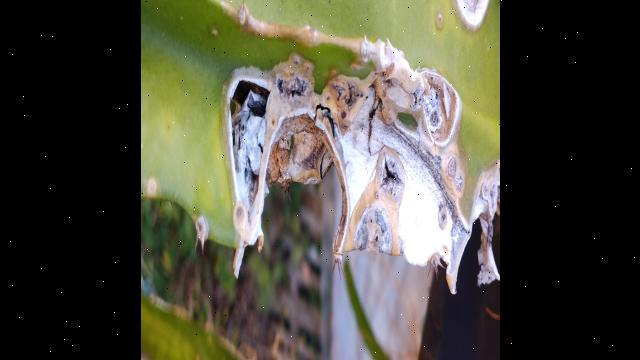stemcanker: (144, 174, 166, 200)
